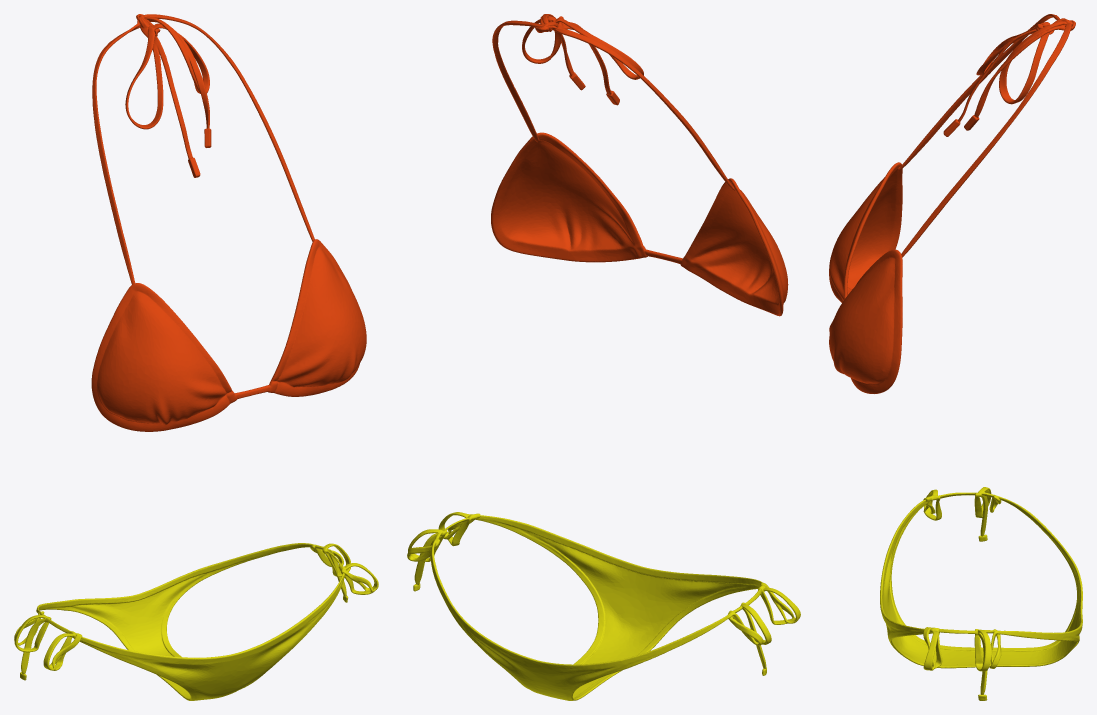
The model's file is bikini-string-meshy.glb.
The picture shows the model from 3 angles, left to right: view 1: azimuth 30°, elevation 25°; view 2: azimuth 150°, elevation 25°; view 3: azimuth 270°, elevation 25°; orthographic projection. The views are drawn at different scales.
Parts seen in each view (by area): view 1: model_part1, model_part0; view 2: model_part1, model_part0; view 3: model_part1, model_part0.
Boxes of the visible parts, left/top/right/bottom form: model_part1: left=91, top=14, right=366, bottom=431; model_part0: left=14, top=543, right=378, bottom=700; model_part1: left=491, top=14, right=788, bottom=316; model_part0: left=407, top=512, right=800, bottom=700; model_part1: left=829, top=14, right=1075, bottom=393; model_part0: left=880, top=487, right=1082, bottom=700.
Size of the model in its own units: 1.05 by 1.9 by 0.6839.
